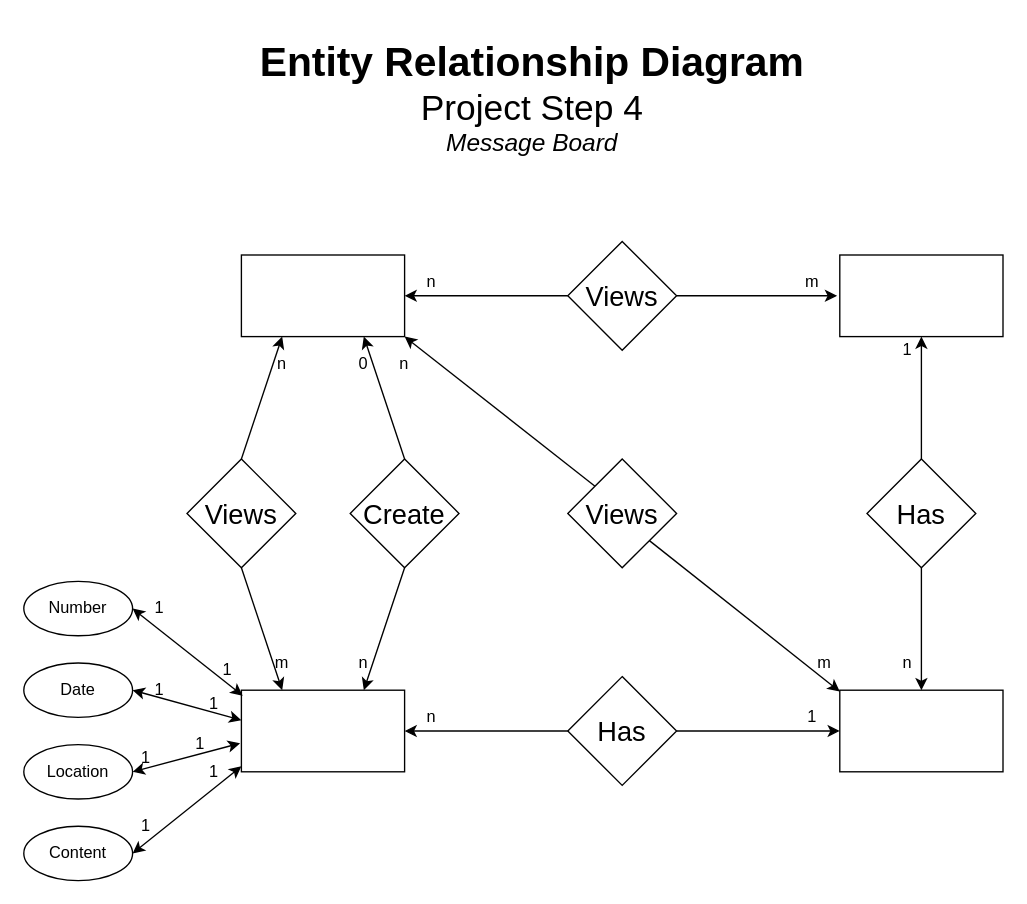
The diagram is 1027 pixels wide and 904 high, and some of its shapes have lost their labels. Each missing label, with the centre of its shape:
Discussion: (920,730)
Message: (322,730)
Topic: (920,295)
User: (322,295)
